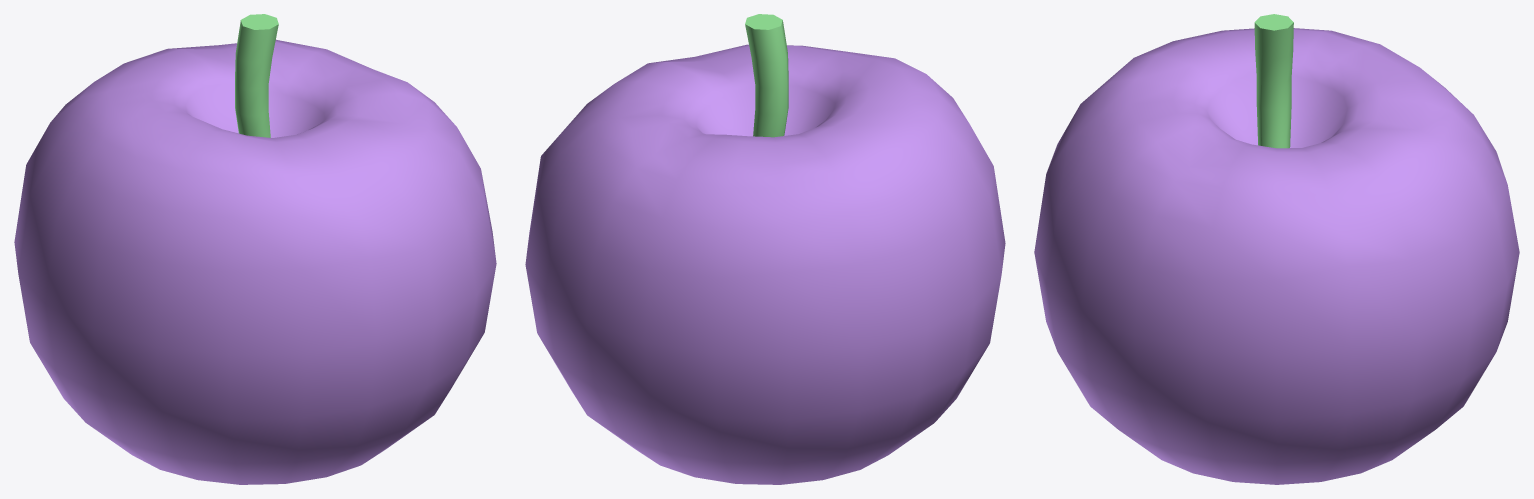
The model's file is Pomme.FBX.
3 views of the same model, side by side, from view 1: azimuth 30°, elevation 25°; view 2: azimuth 150°, elevation 25°; view 3: azimuth 270°, elevation 25° (orthographic).
Visible parts, largest first — view 1: Pomme; view 2: Pomme; view 3: Pomme.
Boxes of the visible parts, x1,y1,x2,y2 form: Pomme: [14, 14, 496, 484]; Pomme: [525, 14, 1005, 484]; Pomme: [1034, 14, 1519, 484].
Bounding box in the file's own units: 0.8185 × 0.8177 × 0.8185.
